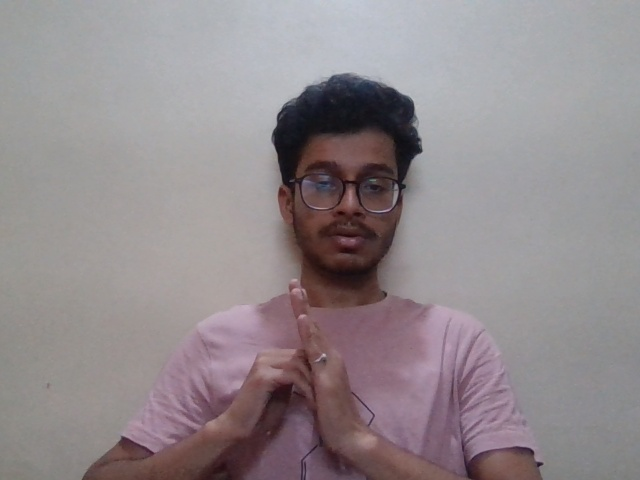N: (234, 282, 368, 439)
